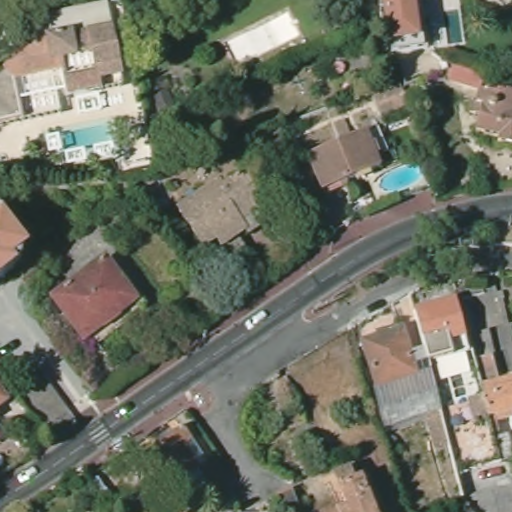pool: (54, 124, 118, 152), (372, 161, 426, 192), (440, 8, 466, 46)
